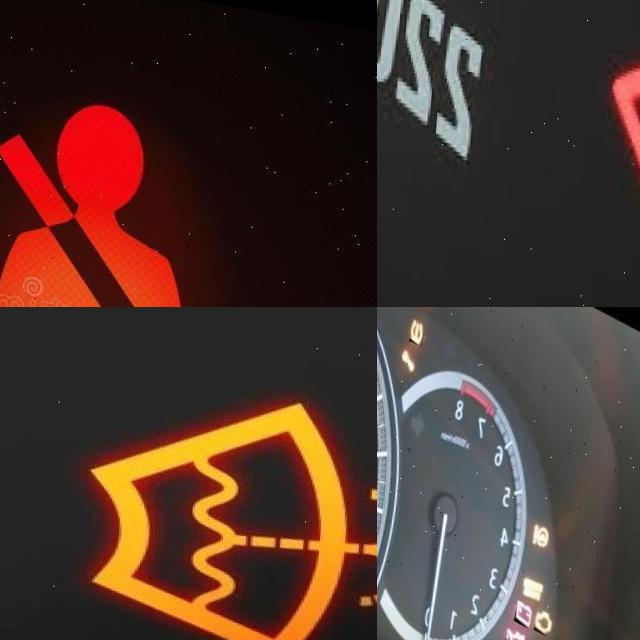Seat Belt: (0, 70, 261, 307)
Washer Fluid: (87, 357, 377, 640)
